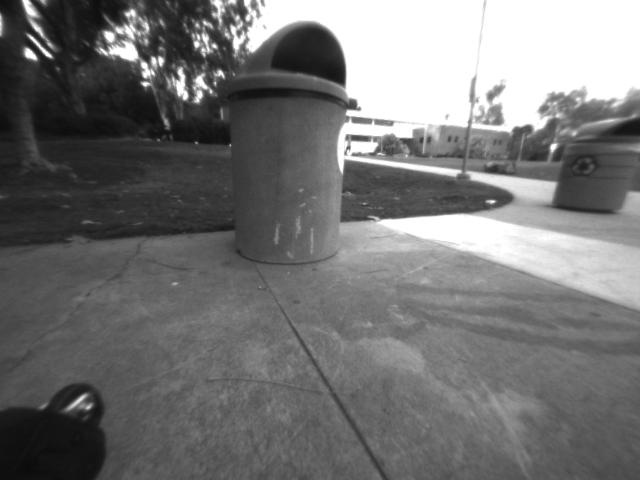trashcan: (217, 14, 365, 277)
